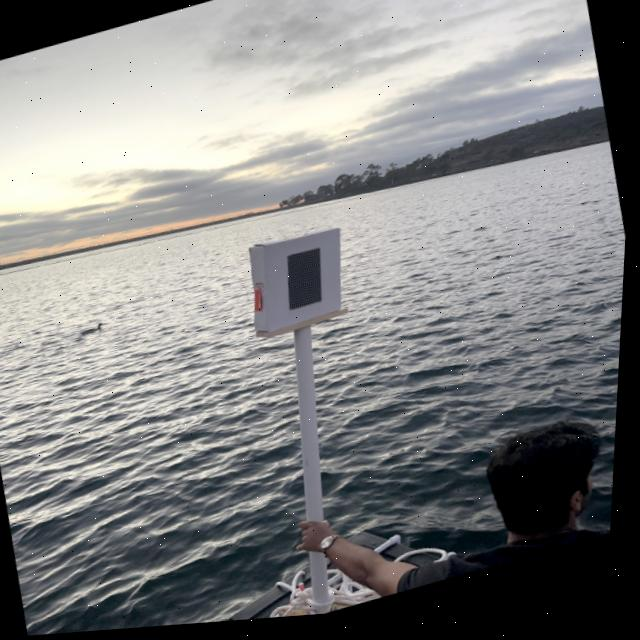led: (258, 233, 353, 342)
